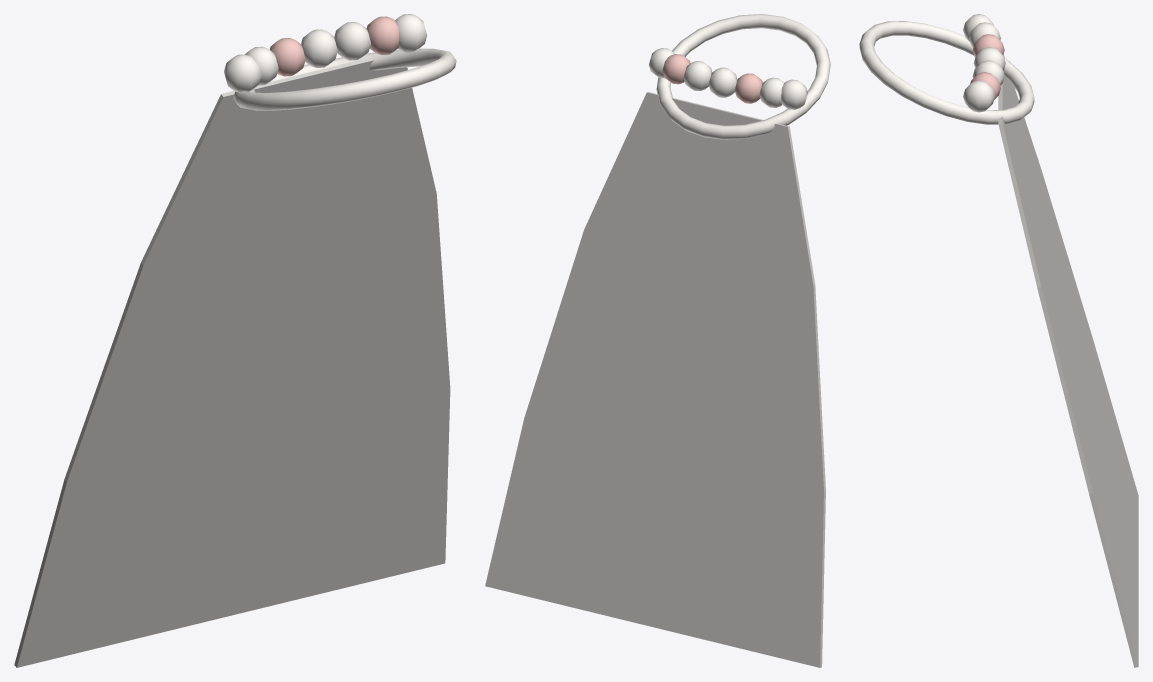
File: veil.glb
3 renders of one model, left to right at view 1: azimuth 30°, elevation 25°; view 2: azimuth 150°, elevation 25°; view 3: azimuth 270°, elevation 25°, orthographic. The views are drawn at different scales.
Parts seen in each view (by area): view 1: chiffon8, flowerWhite0, flowerWhite1, flowerWhite5, flowerWhite4, flowerBlush6, flowerBlush3, flowerWhite7, flowerWhite2; view 2: chiffon8, flowerWhite0, flowerWhite4, flowerWhite5, flowerBlush3, flowerWhite1, flowerBlush6, flowerWhite2; view 3: chiffon8, flowerWhite0, flowerWhite7, flowerBlush3, flowerWhite4.
Boxes of the visible parts, x1=… form: chiffon8: x1=14, y1=58, x2=450, y2=667; flowerWhite0: x1=233, y1=48, x2=456, y2=110; flowerWhite1: x1=224, y1=54, x2=261, y2=92; flowerWhite5: x1=334, y1=22, x2=371, y2=60; flowerWhite4: x1=301, y1=29, x2=337, y2=67; flowerBlush6: x1=366, y1=16, x2=399, y2=54; flowerBlush3: x1=270, y1=38, x2=305, y2=76; flowerWhite7: x1=395, y1=14, x2=427, y2=52; flowerWhite2: x1=245, y1=46, x2=278, y2=85; chiffon8: x1=485, y1=92, x2=825, y2=667; flowerWhite0: x1=656, y1=14, x2=830, y2=139; flowerWhite4: x1=708, y1=67, x2=737, y2=97; flowerWhite5: x1=683, y1=61, x2=712, y2=90; flowerBlush3: x1=734, y1=73, x2=762, y2=103; flowerWhite1: x1=781, y1=79, x2=807, y2=109; flowerBlush6: x1=662, y1=54, x2=690, y2=84; flowerWhite2: x1=759, y1=77, x2=784, y2=107; chiffon8: x1=998, y1=54, x2=1138, y2=667; flowerWhite0: x1=859, y1=21, x2=1034, y2=124; flowerWhite7: x1=963, y1=80, x2=994, y2=112; flowerBlush3: x1=972, y1=34, x2=1004, y2=57; flowerWhite4: x1=973, y1=47, x2=1005, y2=70.
Size of the model in its own units: 0.76 by 1.12 by 0.5214.
